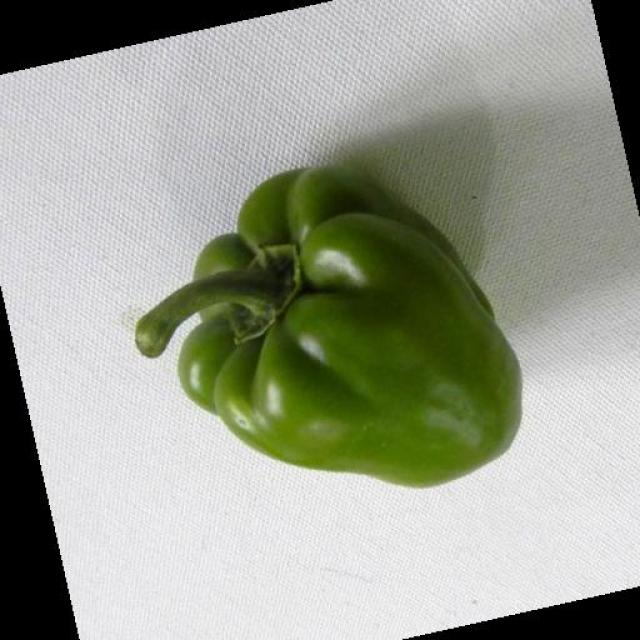Fresh_Capsicum: (152, 182, 520, 496)
